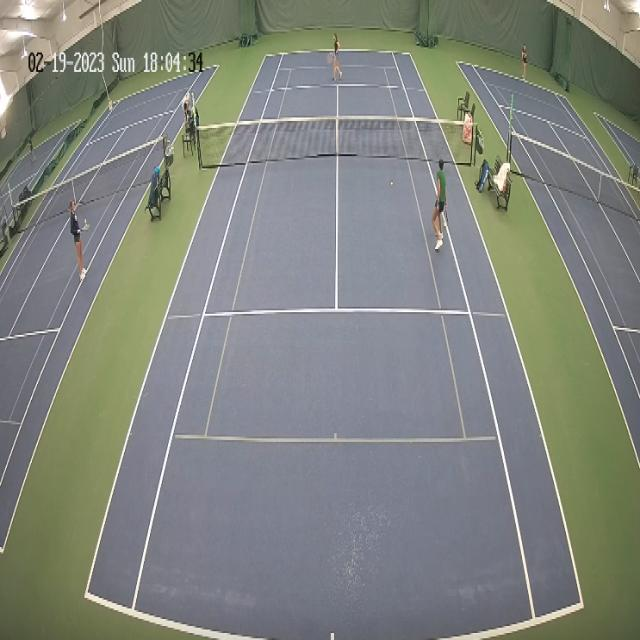ball: (391, 180, 394, 187), (85, 218, 86, 224)
